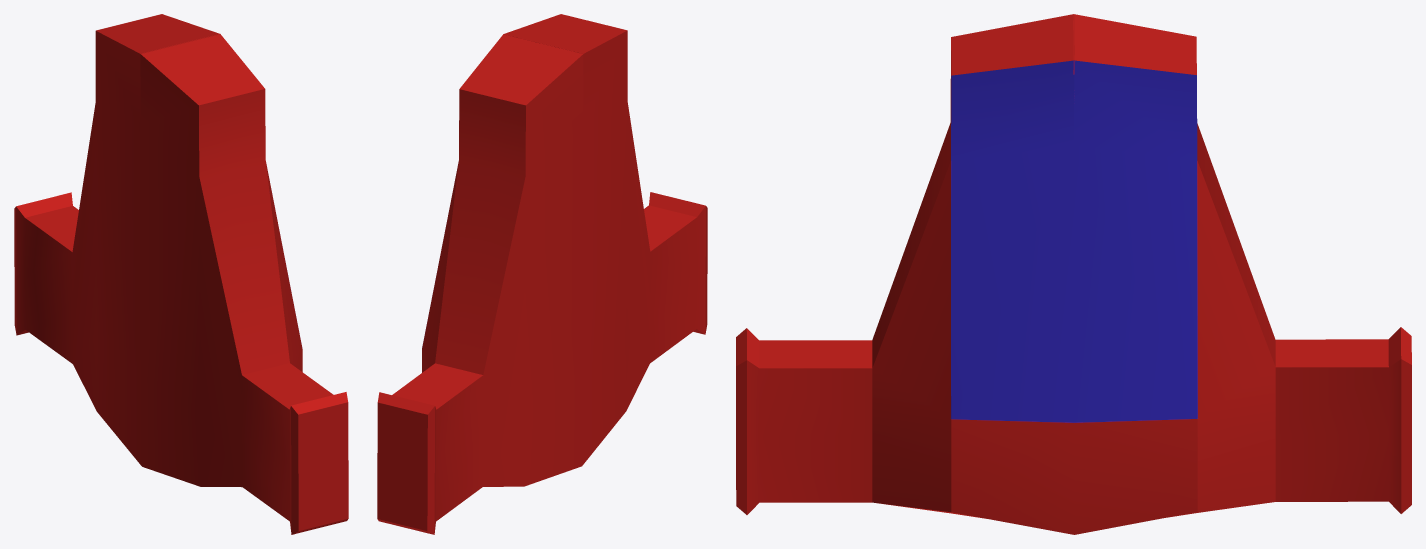
Rendered from RedShip13.fbx.
3 renders of one model, left to right at view 1: azimuth 30°, elevation 25°; view 2: azimuth 150°, elevation 25°; view 3: azimuth 270°, elevation 25°, orthographic. The views are drawn at different scales.
Parts seen in each view (by area): view 1: Cube; view 2: Cube; view 3: Cube.
Boxes of the visible parts, bbox=[...] form: Cube: bbox=[14, 14, 348, 534]; Cube: bbox=[377, 14, 707, 534]; Cube: bbox=[736, 14, 1411, 534].
Bounding box in the file's own units: 132 × 444 × 549.
1 material, 1 textured.
